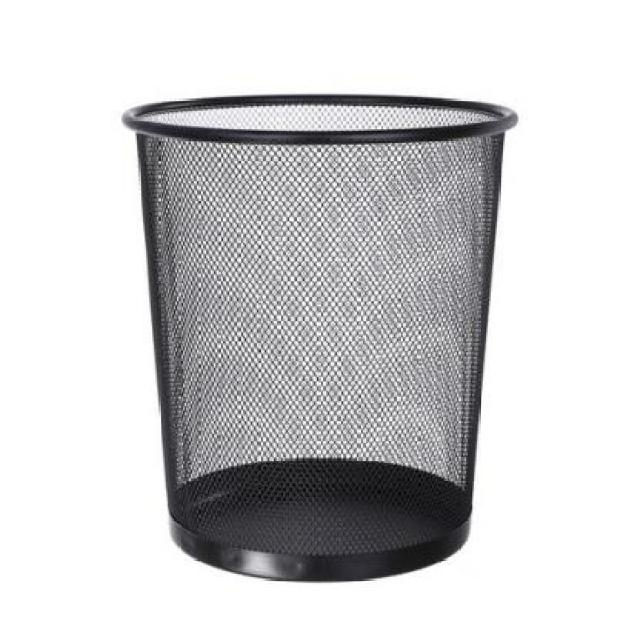dustbin: (117, 88, 525, 592)
